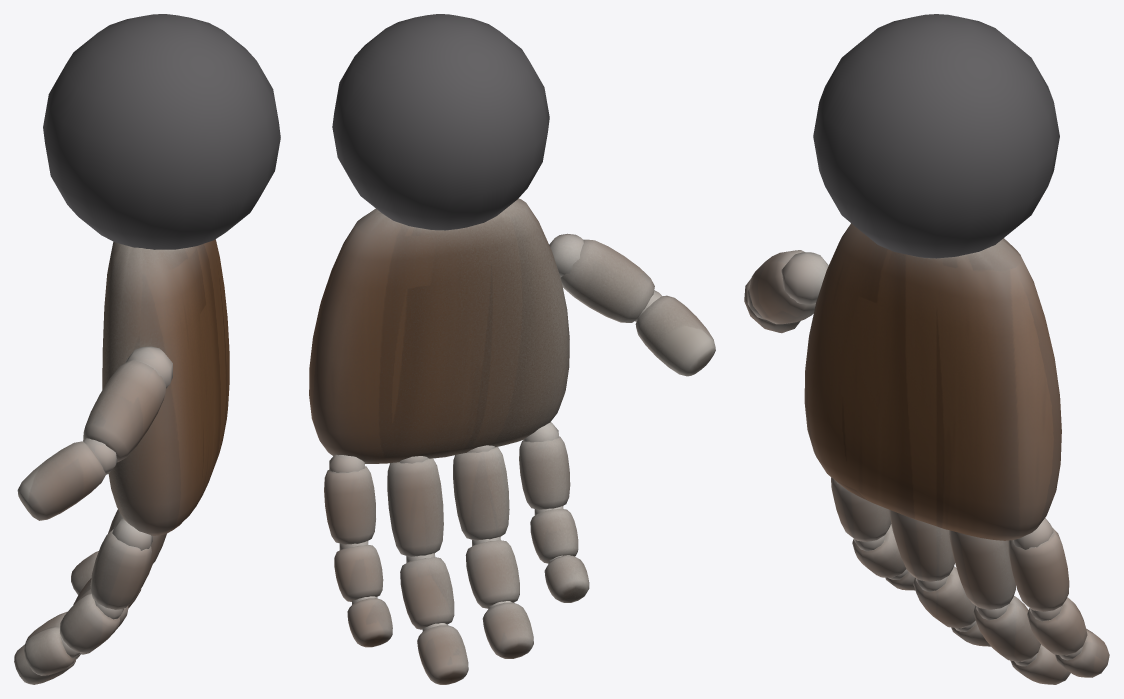
File: Hand_L.glb
The picture shows the model from 3 angles, left to right: view 1: azimuth 30°, elevation 25°; view 2: azimuth 150°, elevation 25°; view 3: azimuth 270°, elevation 25°; orthographic projection. The views are drawn at different scales.
Parts seen in each view (by area): view 1: Hand_L, Hand_L_Ball; view 2: Hand_L, Hand_L_Ball; view 3: Hand_L, Hand_L_Ball.
Boxes of the visible parts, x1,y1,x2,y2 form: Hand_L: [14, 239, 229, 684]; Hand_L_Ball: [43, 14, 280, 249]; Hand_L: [309, 198, 715, 684]; Hand_L_Ball: [332, 14, 549, 230]; Hand_L: [744, 223, 1109, 684]; Hand_L_Ball: [813, 14, 1059, 258].
Size of the model in its own units: 0.112 by 0.2219 by 0.1066.
2 materials, 1 textured.
